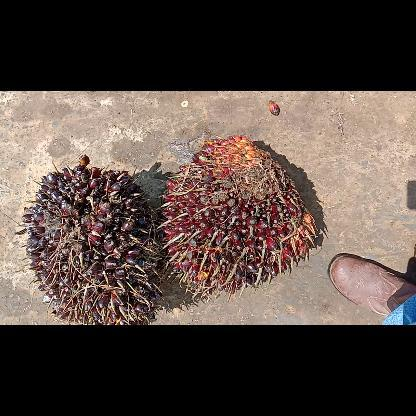TBS mentah: (158, 134, 317, 298), (20, 154, 162, 322)
